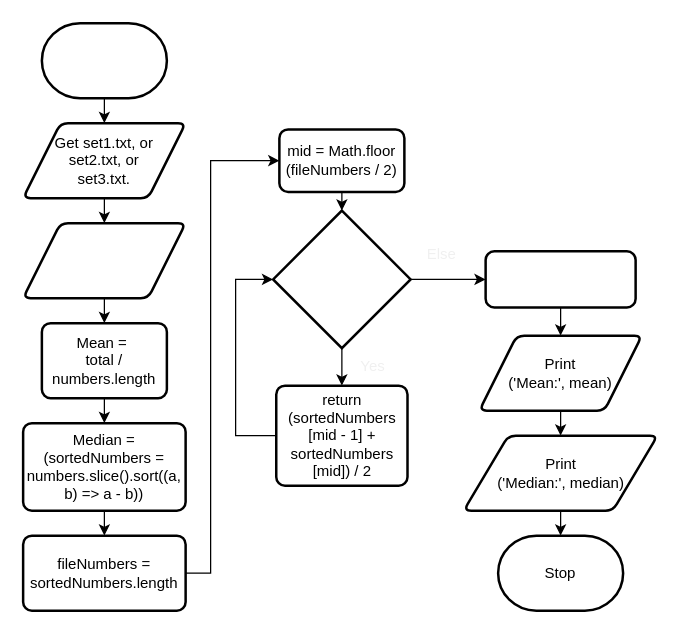
Some shapes in this 680 by 633 pixel diagram are drawn without their labels. The centre of each missing label's shape, as x and y in pixels:
"Get numbers" goes at pixel 103 260.
"if (fileNumbers % 2 === 0 )" goes at pixel 341 279.
"return sortedNumbers[mid]" goes at pixel 560 278.
"Start" goes at pixel 104 60.
